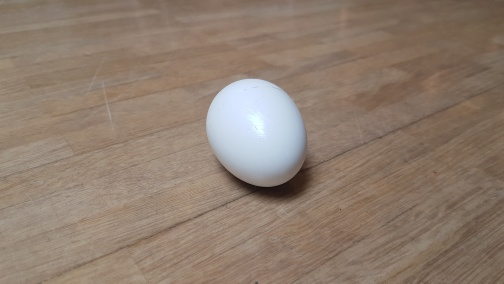egg: (205, 76, 308, 189)
